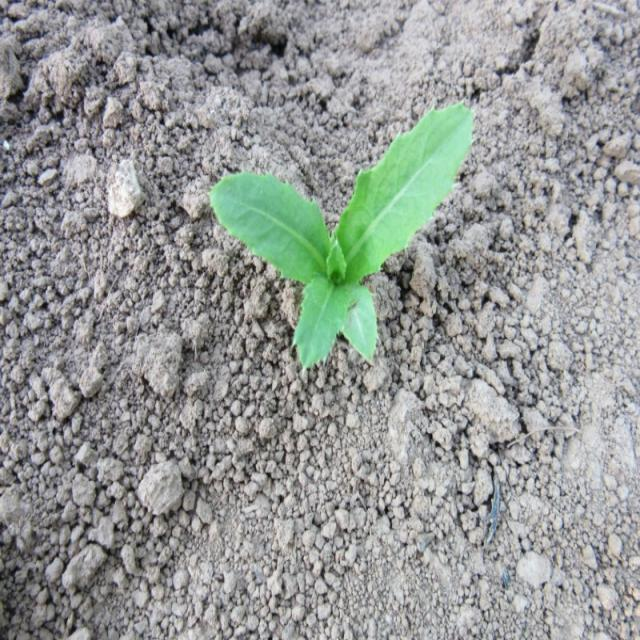cs: (209, 100, 477, 375)
